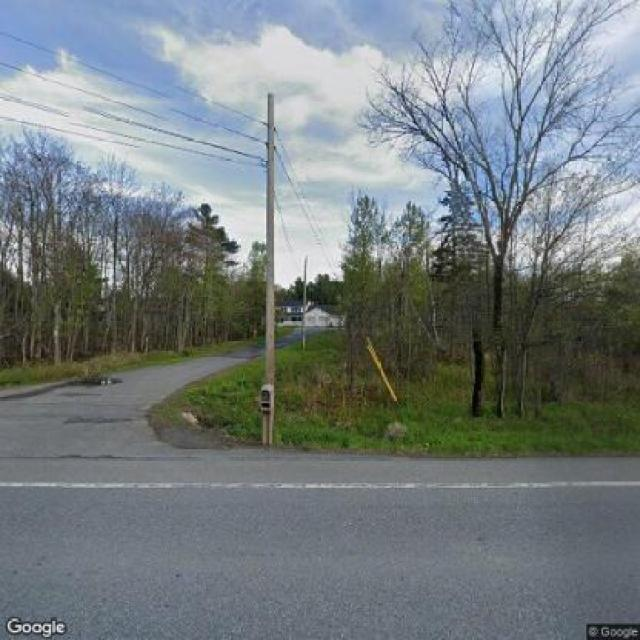pole: (246, 82, 296, 446)
